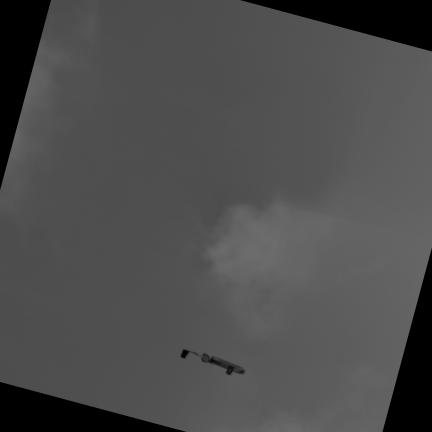Shahed: (179, 347, 245, 374)
